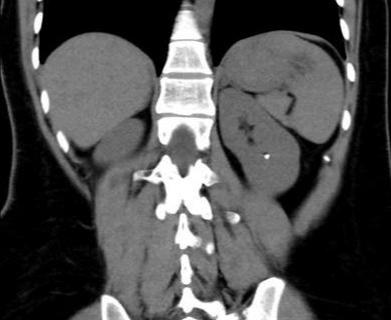Tas_Var: (262, 151, 272, 162)
